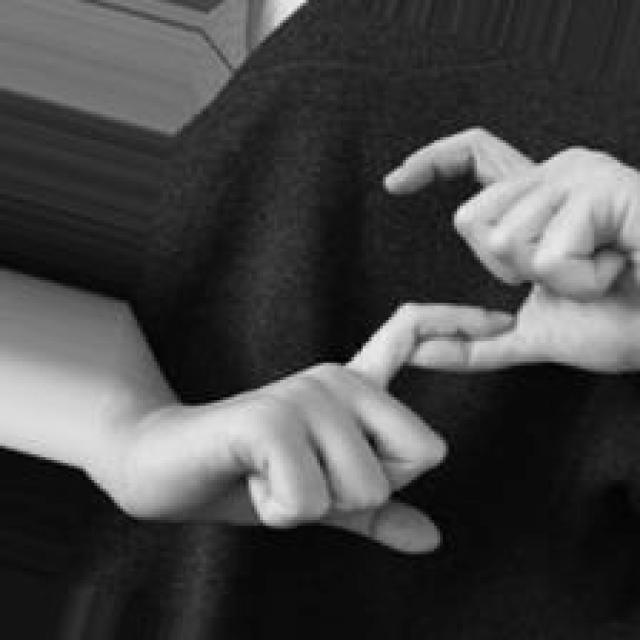S: (144, 112, 640, 556)
